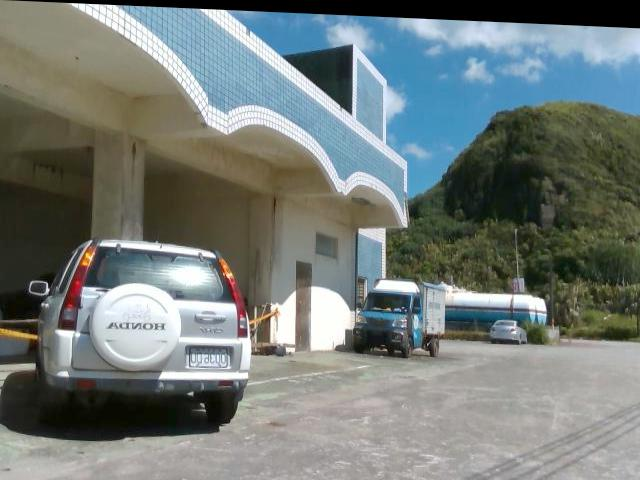pollute: (252, 339, 293, 357)
